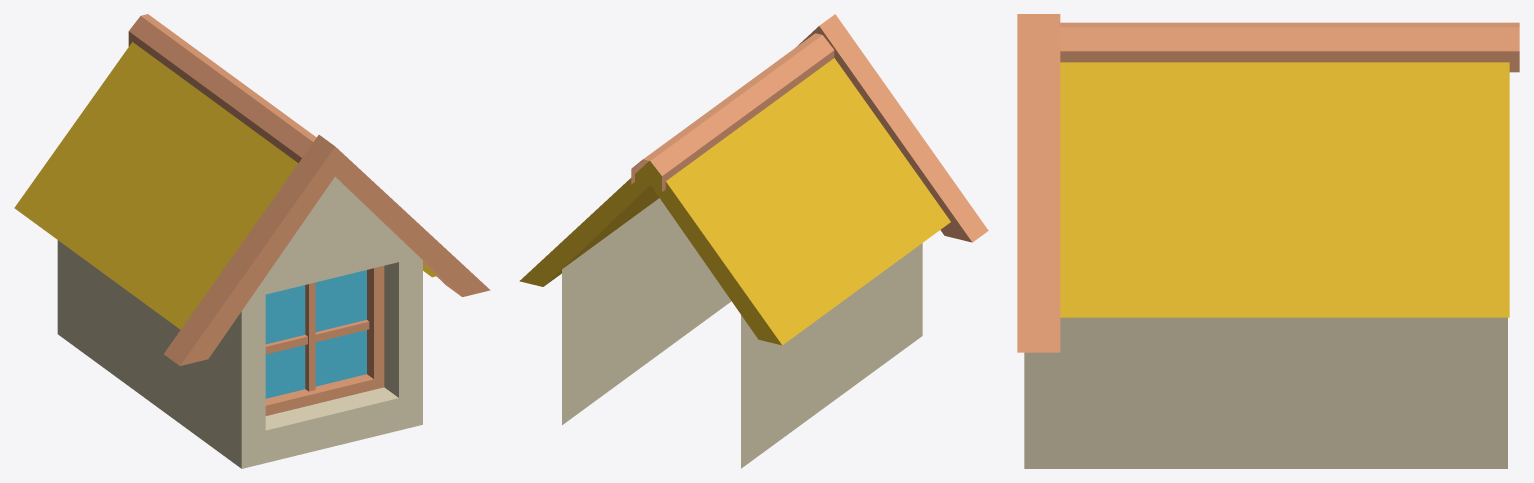
The model's file is Roof_window.fbx.
The picture shows the model from 3 angles, left to right: view 1: azimuth 30°, elevation 25°; view 2: azimuth 150°, elevation 25°; view 3: azimuth 270°, elevation 25°; orthographic projection. The views are drawn at different scales.
Parts seen in each view (by area): view 1: Cube.156, Cube.114, Cube.161, Cube.157, Cube.163, Cube.159, Cube.158; view 2: Cube.114, Cube.156, Cube.161, Cube.163; view 3: Cube.114, Cube.156, Cube.163, Cube.161.
Boxes of the visible parts, x1,y1,x2,y2 form: Cube.156: [57, 177, 422, 468]; Cube.114: [14, 42, 436, 329]; Cube.161: [164, 135, 490, 365]; Cube.157: [265, 266, 384, 415]; Cube.163: [128, 14, 316, 162]; Cube.159: [305, 282, 315, 391]; Cube.158: [265, 320, 369, 354]; Cube.114: [519, 58, 950, 345]; Cube.156: [562, 198, 922, 468]; Cube.161: [797, 14, 988, 242]; Cube.163: [631, 33, 834, 191]; Cube.114: [1060, 62, 1509, 317]; Cube.156: [1024, 317, 1507, 468]; Cube.163: [1060, 22, 1519, 72]; Cube.161: [1017, 14, 1060, 352].
Size of the model in its own units: 272 by 253 by 290.
